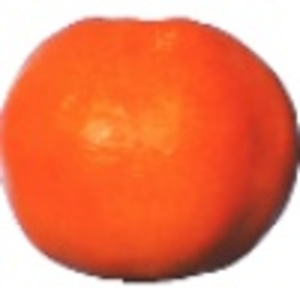tangerina: (1, 15, 300, 286)
